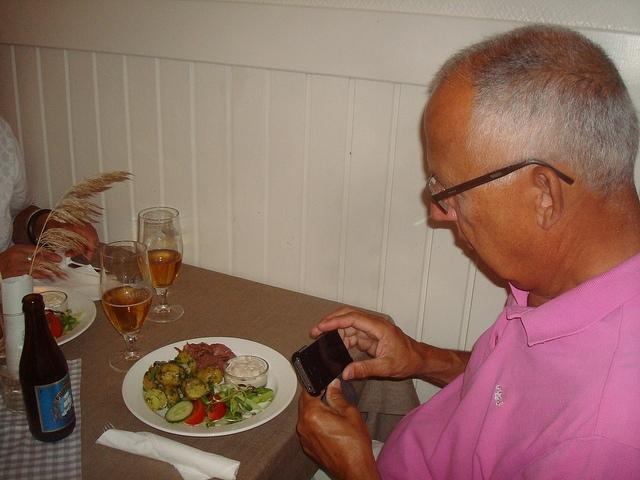cucumber: (164, 400, 194, 423)
tomato: (205, 394, 227, 420), (186, 398, 206, 425), (46, 312, 64, 338)
